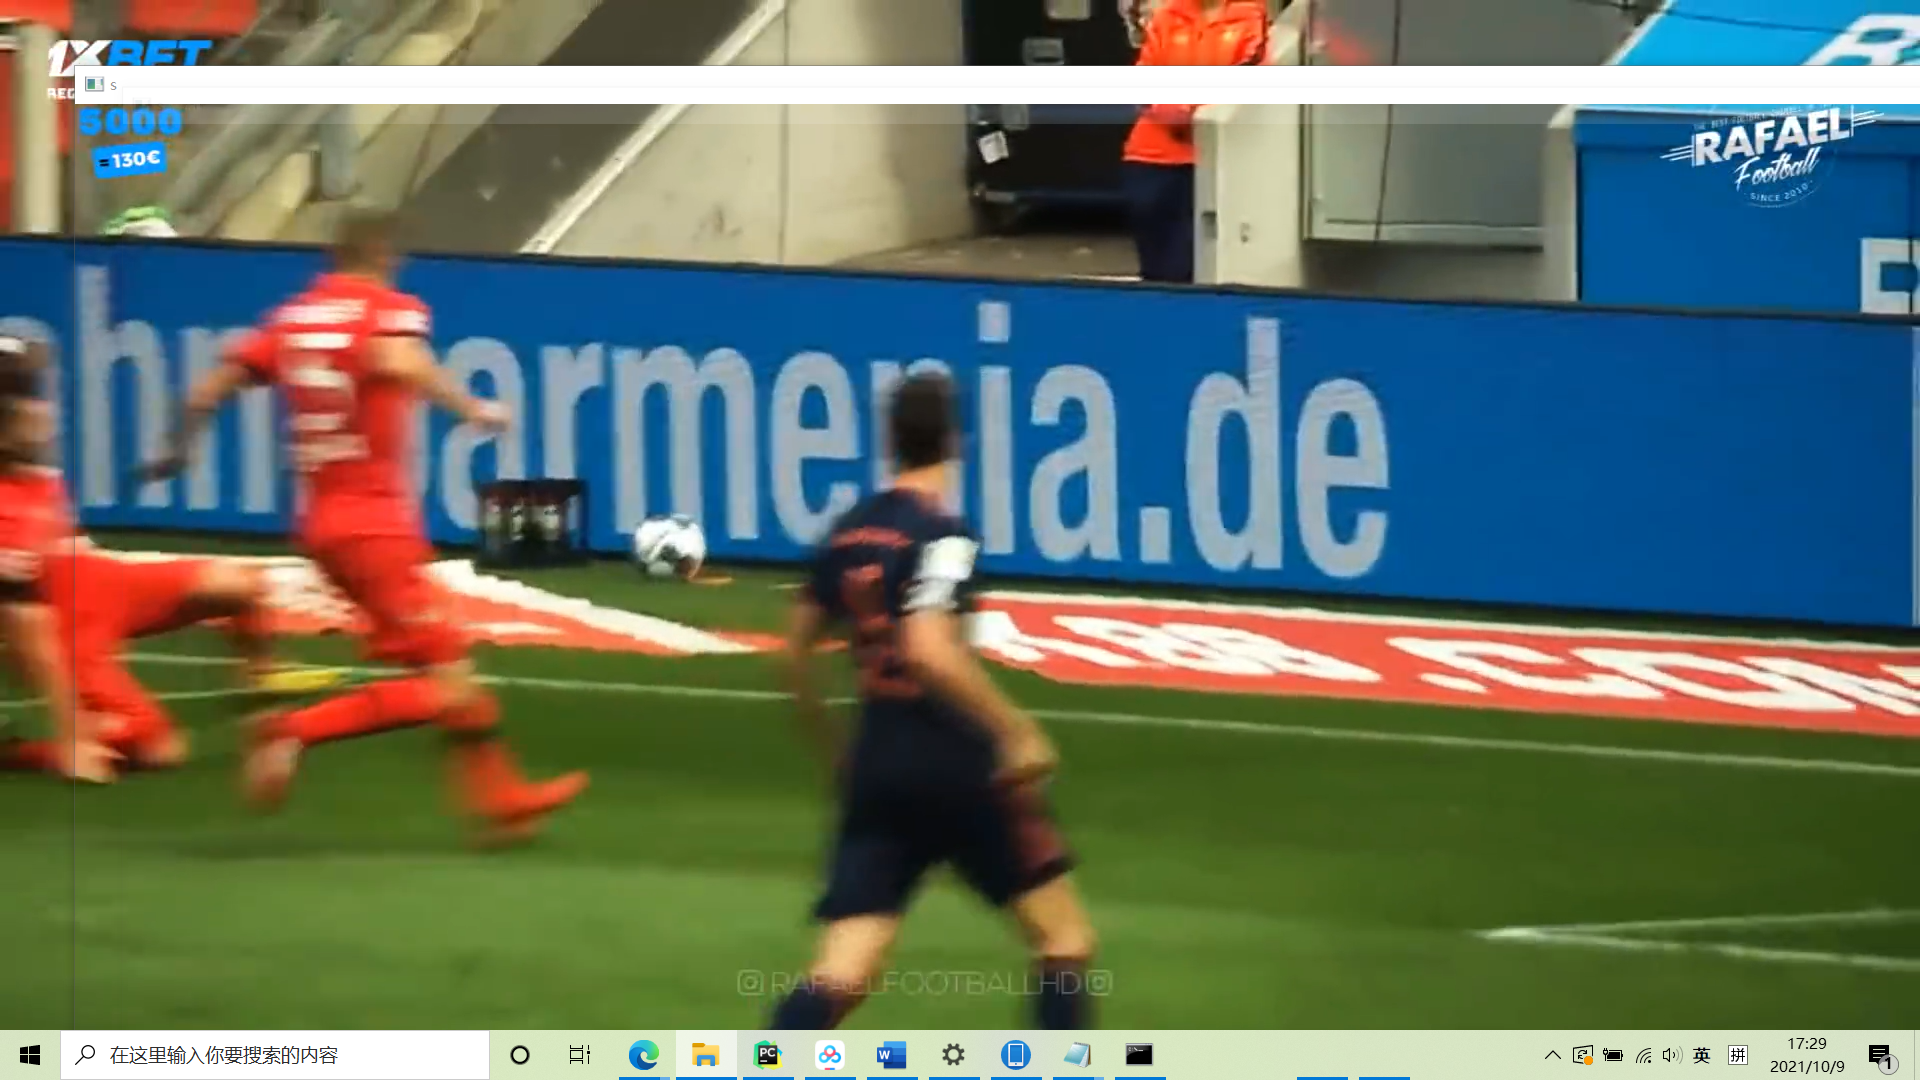ft: (630, 512, 708, 585)
